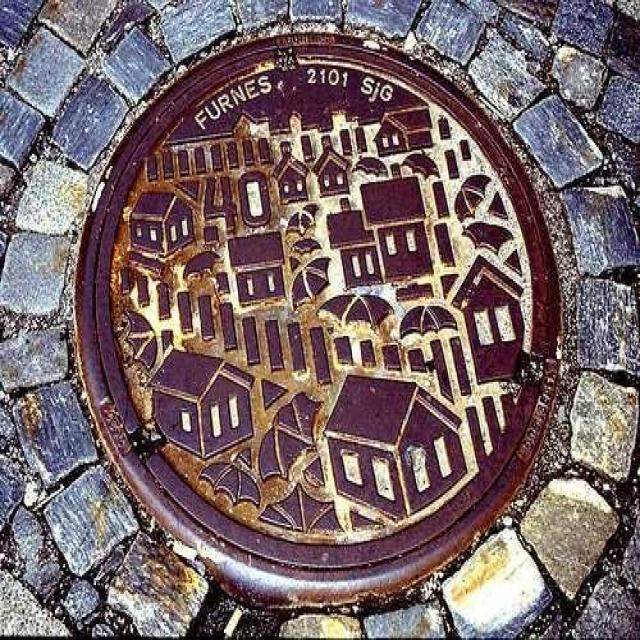manhole: (76, 35, 559, 606)
